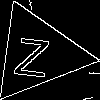Z: (13, 28, 52, 78)
